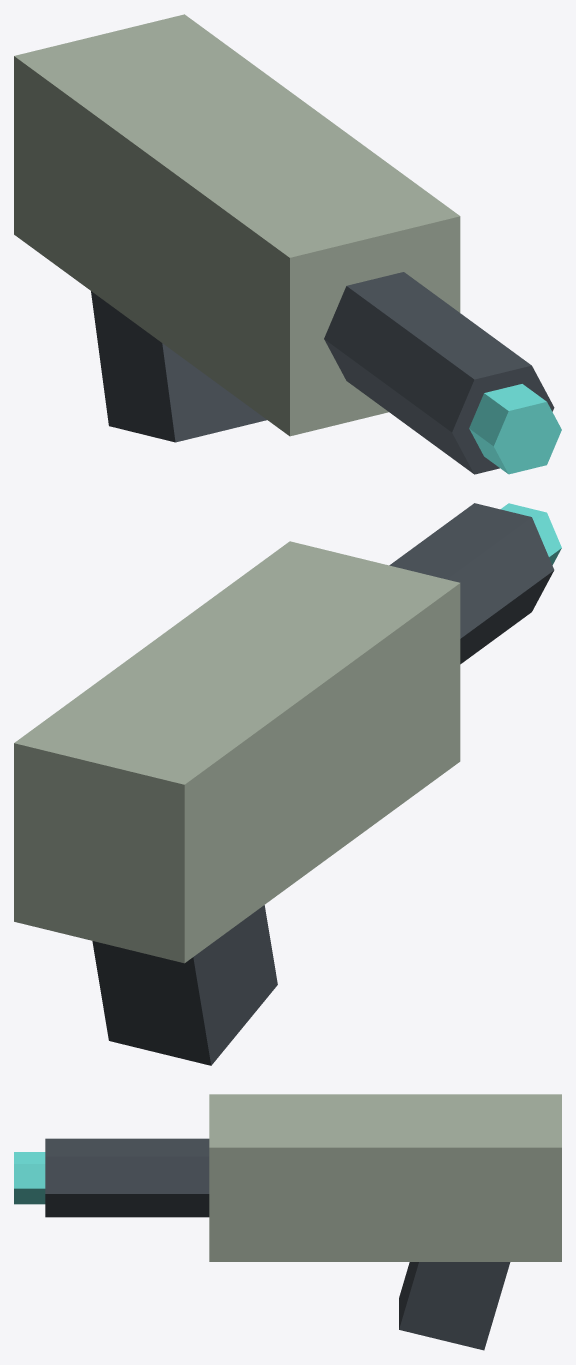
The model's file is SH_RepairTool_01.glb.
3 renders of one model, top to bottom at view 1: azimuth 30°, elevation 25°; view 2: azimuth 150°, elevation 25°; view 3: azimuth 270°, elevation 25°, orthographic. The views are drawn at different scales.
Visible parts, largest first — view 1: SH_RepairTool_01; view 2: SH_RepairTool_01; view 3: SH_RepairTool_01.
Boxes of the visible parts, box(x1,y1,x2,y2) form: SH_RepairTool_01: box(14, 14, 561, 474); SH_RepairTool_01: box(14, 503, 561, 1065); SH_RepairTool_01: box(14, 1094, 561, 1350).
Size of the model in its own units: 0.1 by 0.187 by 0.435.
1 material, 1 textured.
